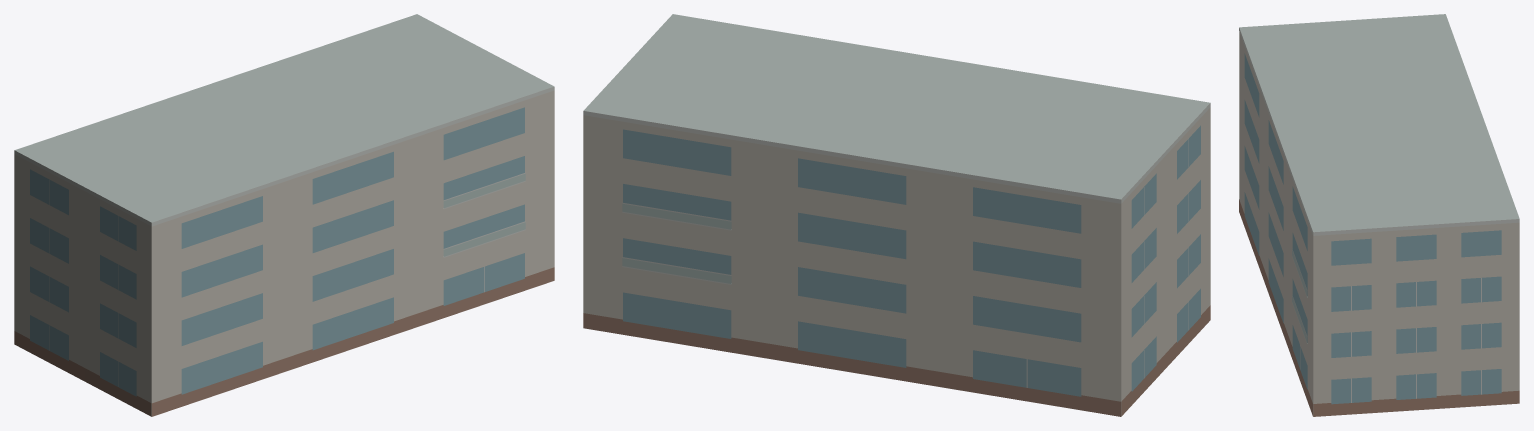
Rendered from residential-5d1b326d-d823-49e9-8a52-017af0803cce.glb.
The picture shows the model from 3 angles, left to right: view 1: azimuth 30°, elevation 25°; view 2: azimuth 150°, elevation 25°; view 3: azimuth 270°, elevation 25°; orthographic projection. The views are drawn at different scales.
Visible parts, largest first — view 1: residential-5d1b326d-d823-49e9-8a52-017af0803cce.tmp; view 2: residential-5d1b326d-d823-49e9-8a52-017af0803cce.tmp; view 3: residential-5d1b326d-d823-49e9-8a52-017af0803cce.tmp.
Part boxes in pixels (x1,y1,x2,y2): residential-5d1b326d-d823-49e9-8a52-017af0803cce.tmp: (14,14,554,416); residential-5d1b326d-d823-49e9-8a52-017af0803cce.tmp: (583,14,1210,416); residential-5d1b326d-d823-49e9-8a52-017af0803cce.tmp: (1239,14,1519,416).
Bounding box in the file's own units: 30.93 × 12.2 × 16.81.
